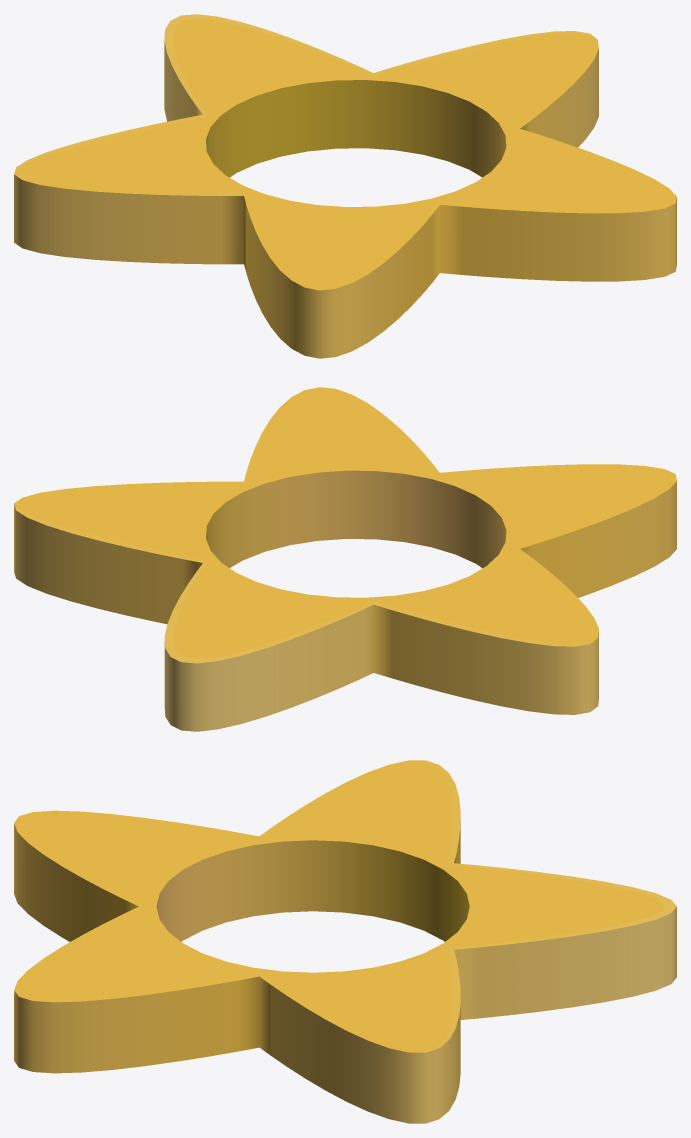
File: Star.FBX
The picture shows the model from 3 angles, top to bottom: view 1: azimuth 30°, elevation 25°; view 2: azimuth 150°, elevation 25°; view 3: azimuth 270°, elevation 25°; orthographic projection. The views are drawn at different scales.
Visible parts, largest first — view 1: Star; view 2: Star; view 3: Star.
Boxes of the visible parts, x1=… form: Star: x1=14, y1=14, x2=676, y2=358; Star: x1=14, y1=387, x2=676, y2=731; Star: x1=14, y1=760, x2=676, y2=1123.
Size of the model in its own units: 61.82 by 7 by 59.25.
Materials: 1 (1 with a texture image).
